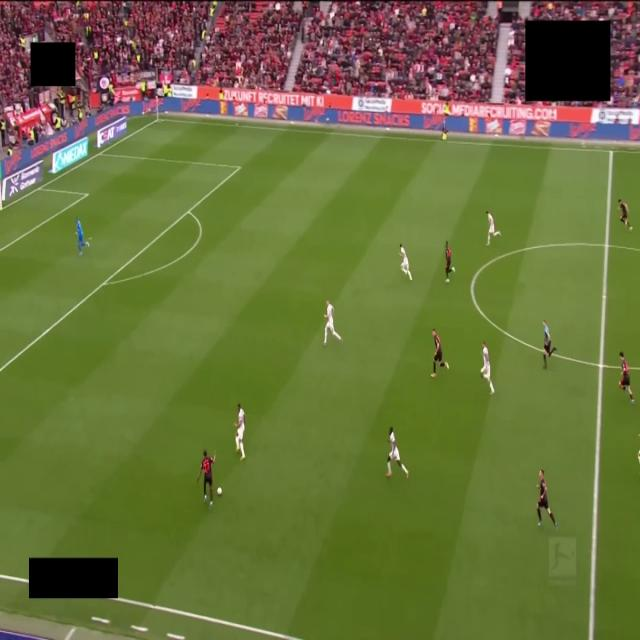ball: (216, 487, 222, 496)
player: (537, 470, 557, 527), (387, 428, 408, 477), (197, 449, 215, 505), (431, 329, 448, 377), (619, 352, 634, 404), (324, 300, 341, 345), (481, 343, 494, 394), (234, 404, 245, 460), (76, 217, 89, 255), (486, 211, 500, 246), (618, 200, 632, 231), (400, 244, 412, 280), (446, 241, 455, 282), (638, 450, 639, 463)
referee: (543, 321, 556, 368)
